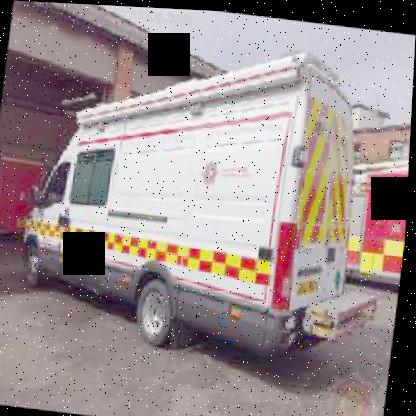emergency: (0, 53, 390, 376)
